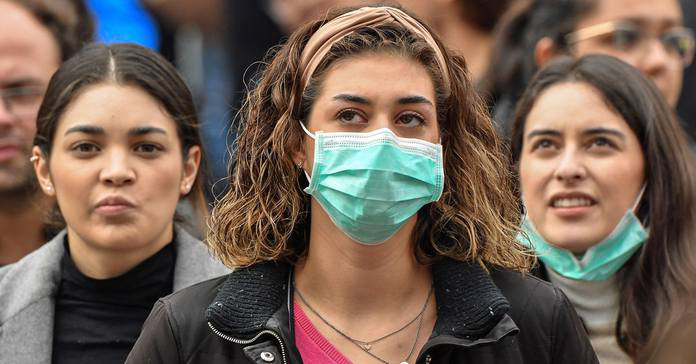mask_weared_incorrect: (503, 75, 657, 288)
with_mask: (282, 56, 450, 250)
without_mask: (26, 105, 204, 255)
